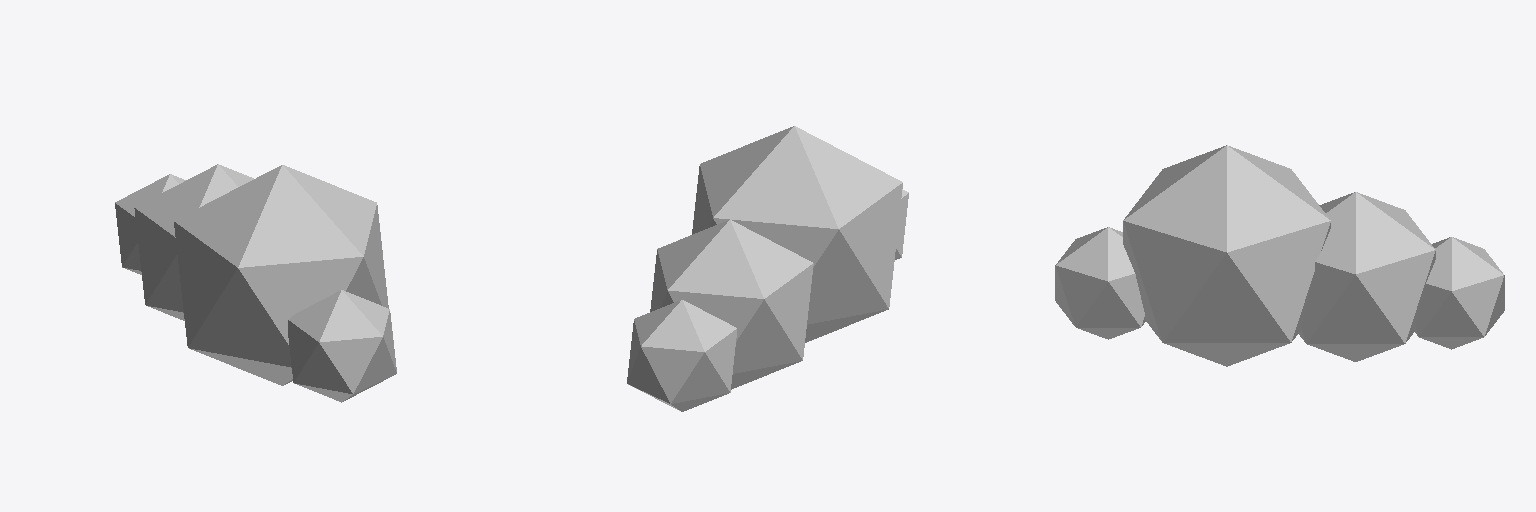
File: UltraLP_cloud_3.obj
3 renders of one model, left to right at view 1: azimuth 30°, elevation 25°; view 2: azimuth 150°, elevation 25°; view 3: azimuth 270°, elevation 25°, orthographic.
Visible parts, largest first — view 1: Icosphere; view 2: Icosphere; view 3: Icosphere.
Part boxes in pixels (x1,y1,x2,y2): Icosphere: (115, 164, 396, 402); Icosphere: (627, 126, 908, 411); Icosphere: (1055, 145, 1504, 366).
Size of the model in its own units: 6.6 by 7.38 by 13.55.